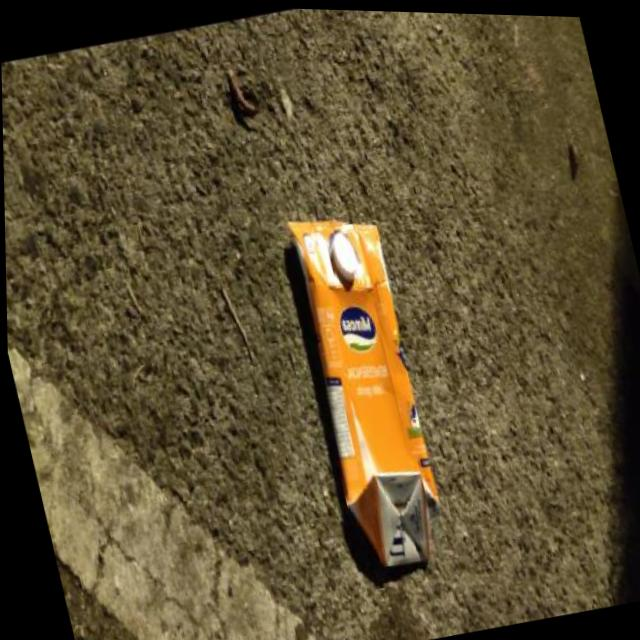cardboard: (278, 197, 455, 577)
